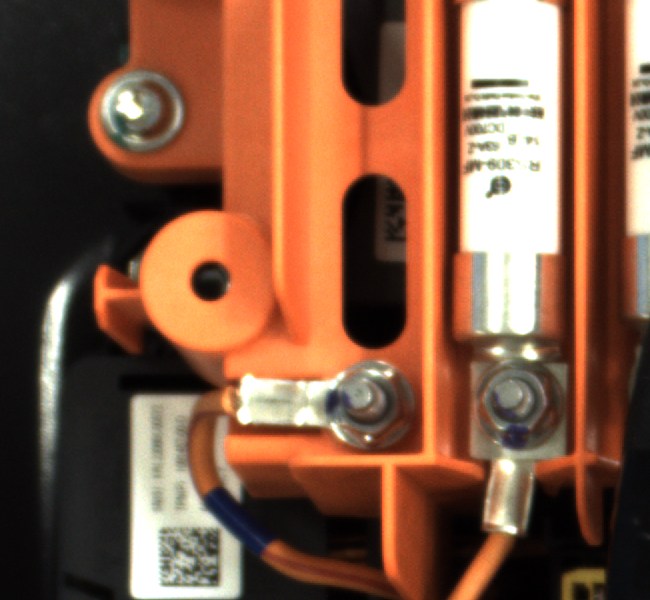screw_m: (90, 66, 212, 166)
screw_s: (323, 363, 419, 448), (474, 362, 564, 444)
